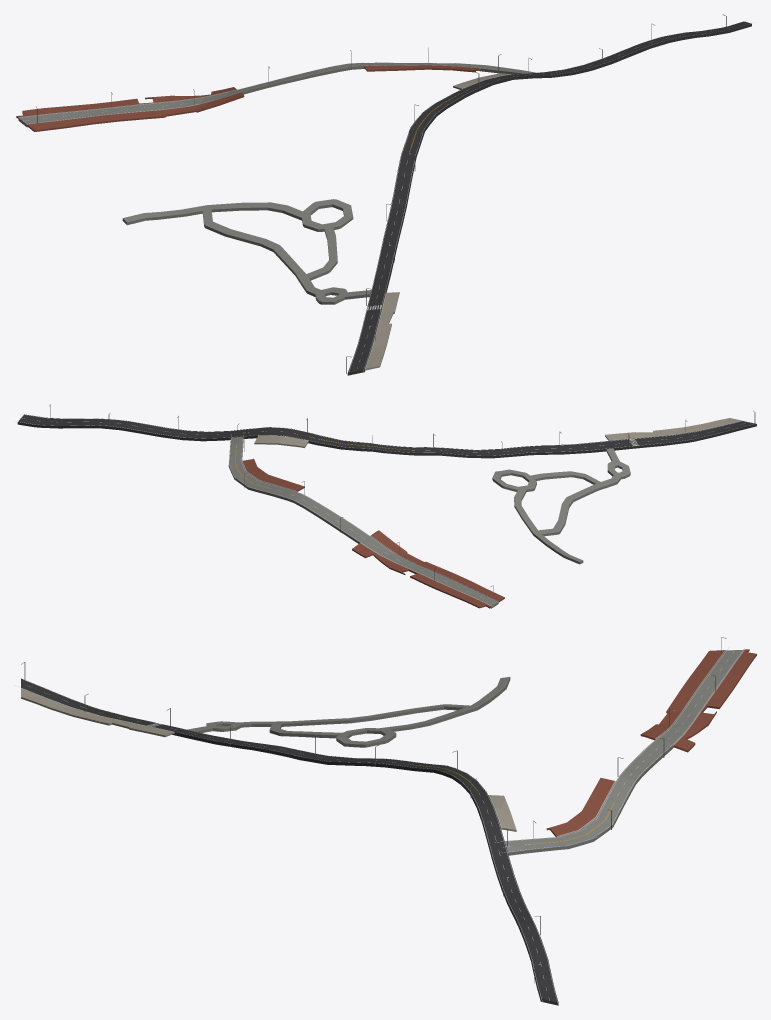
3 views of the same model, one above another, from view 1: azimuth 30°, elevation 25°; view 2: azimuth 150°, elevation 25°; view 3: azimuth 270°, elevation 25° (orthographic). The views are drawn at different scales.
Size of the model in its own units: 300 by 36.45 by 261.
